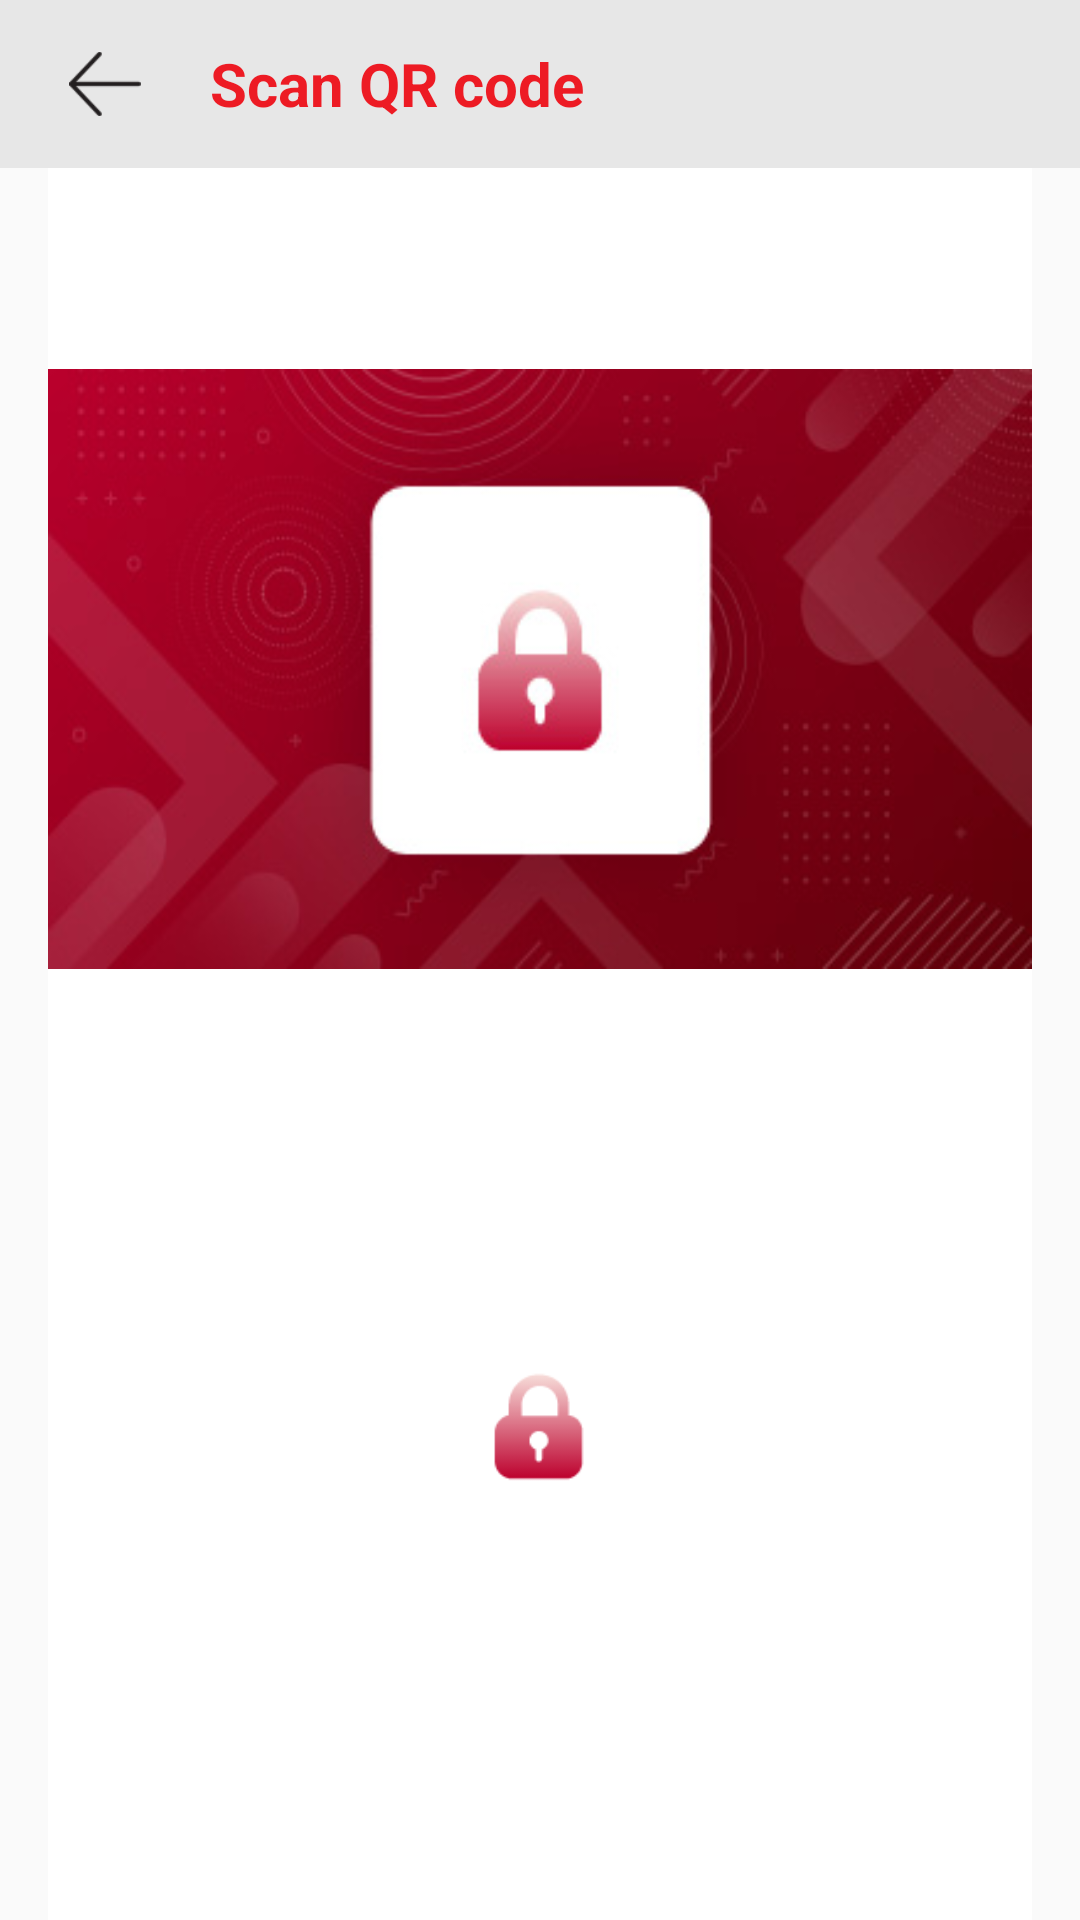

Screen size 1080 × 1920. Icon name, then its box in pixels as BBox(x1, y1, x2, y2):
back: BBox(69, 52, 141, 116)
